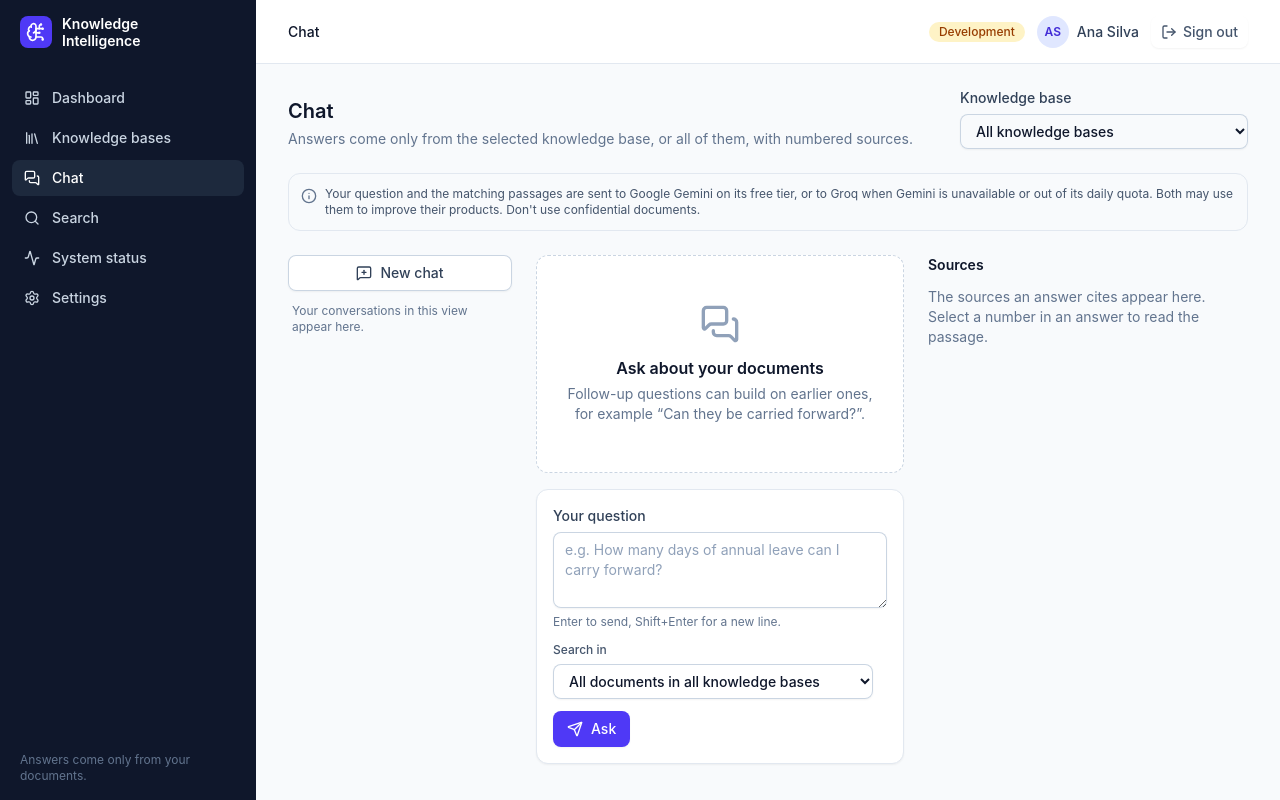
Test: chat page › asks across all knowledge bases by default, with sources naming their knowledge base
This screenshot has width=1280, height=800.
Expected: the dropdown labelled "Knowledge base" shows "All knowledge bases", [960,114,1248,149]
In the text box labelled "Your question": (720, 570) [553,532,887,608], type "How many days?"
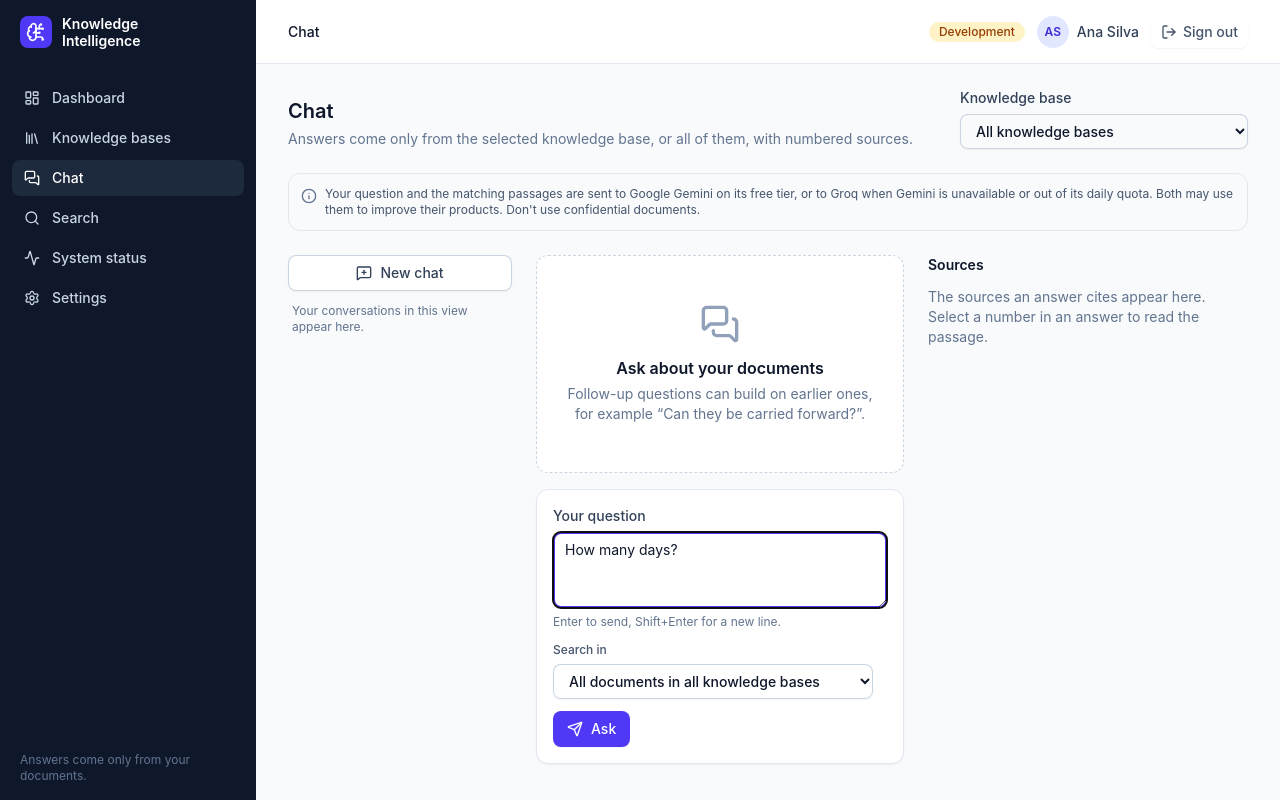
Click the button "Ask": (592, 729) [553,711,630,747]
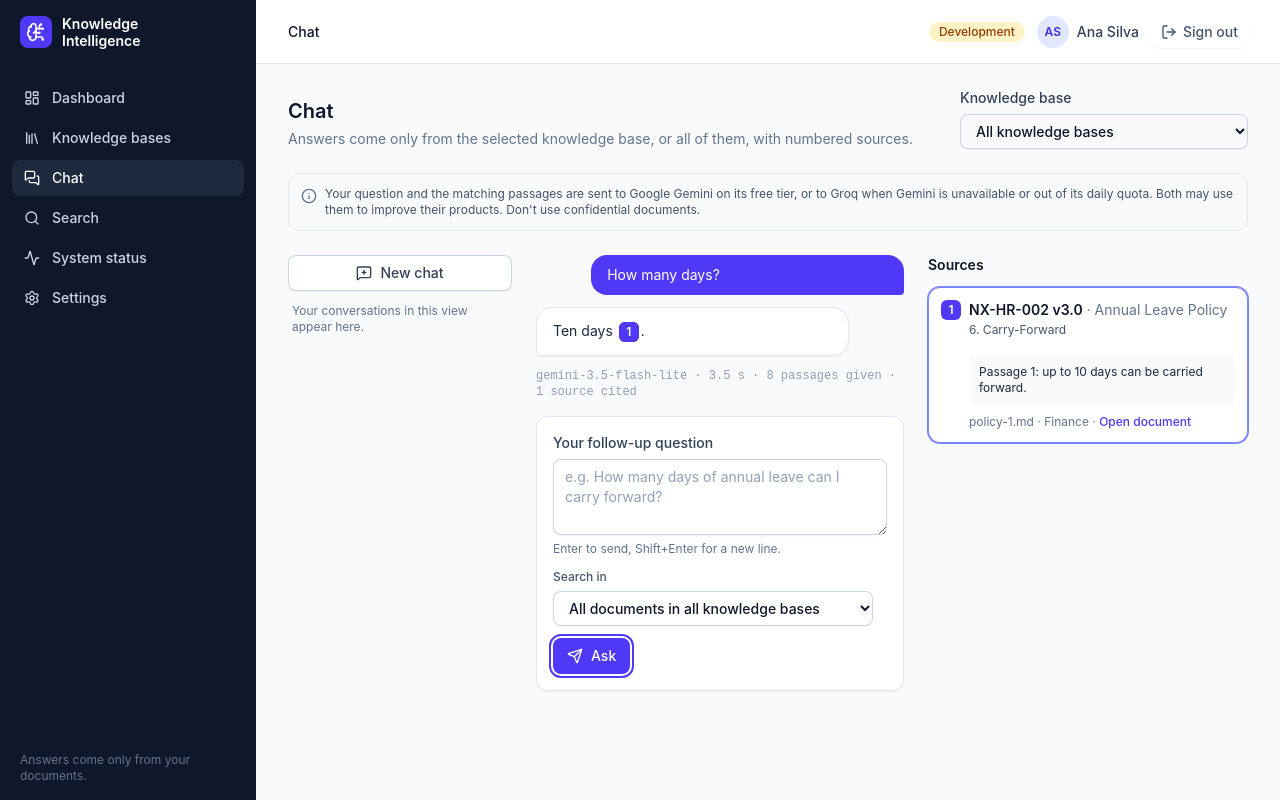
Expected: the element "Sources" shows "Finance", [1034,414,1089,429]
